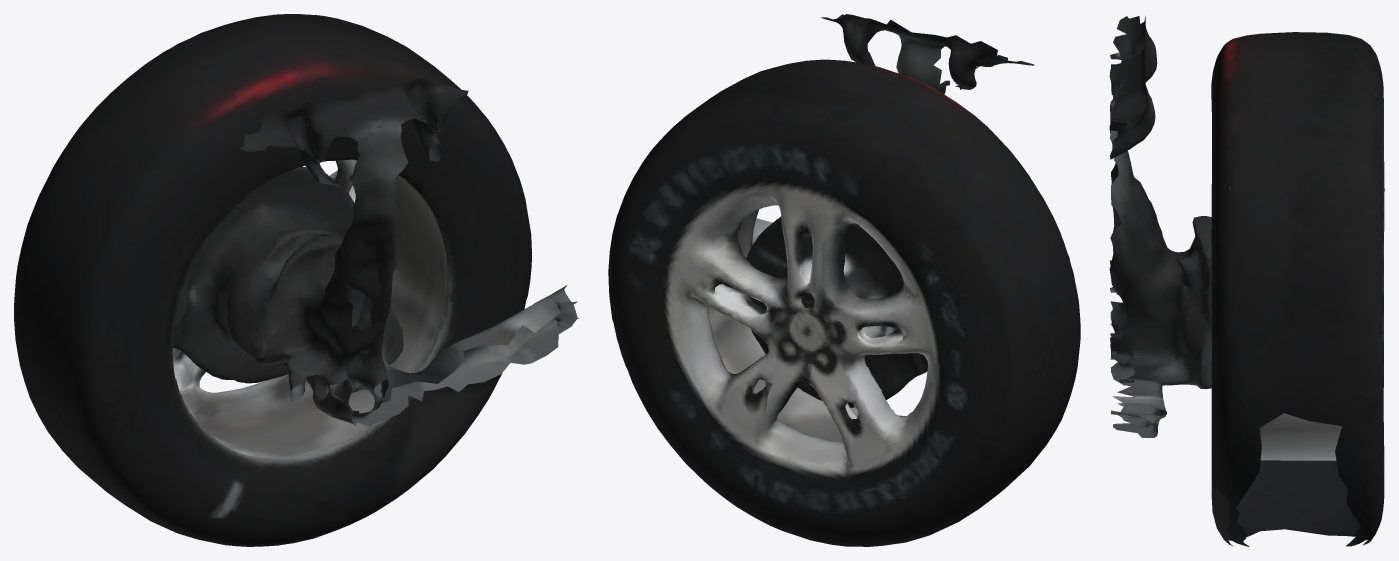
Rendered from wheel_thar_stock.glb.
The picture shows the model from 3 angles, left to right: view 1: azimuth 30°, elevation 25°; view 2: azimuth 150°, elevation 25°; view 3: azimuth 270°, elevation 25°; orthographic projection. The views are drawn at different scales.
Bounding box in the file's own units: 0.3592 × 0.362 × 0.1904.
1 material, 1 textured.
